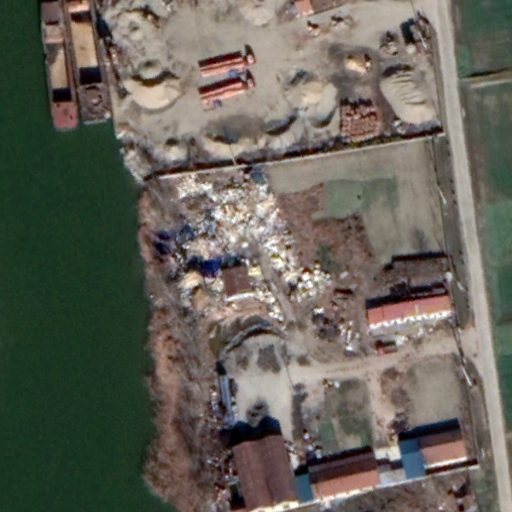msw: (171, 169, 330, 327)
